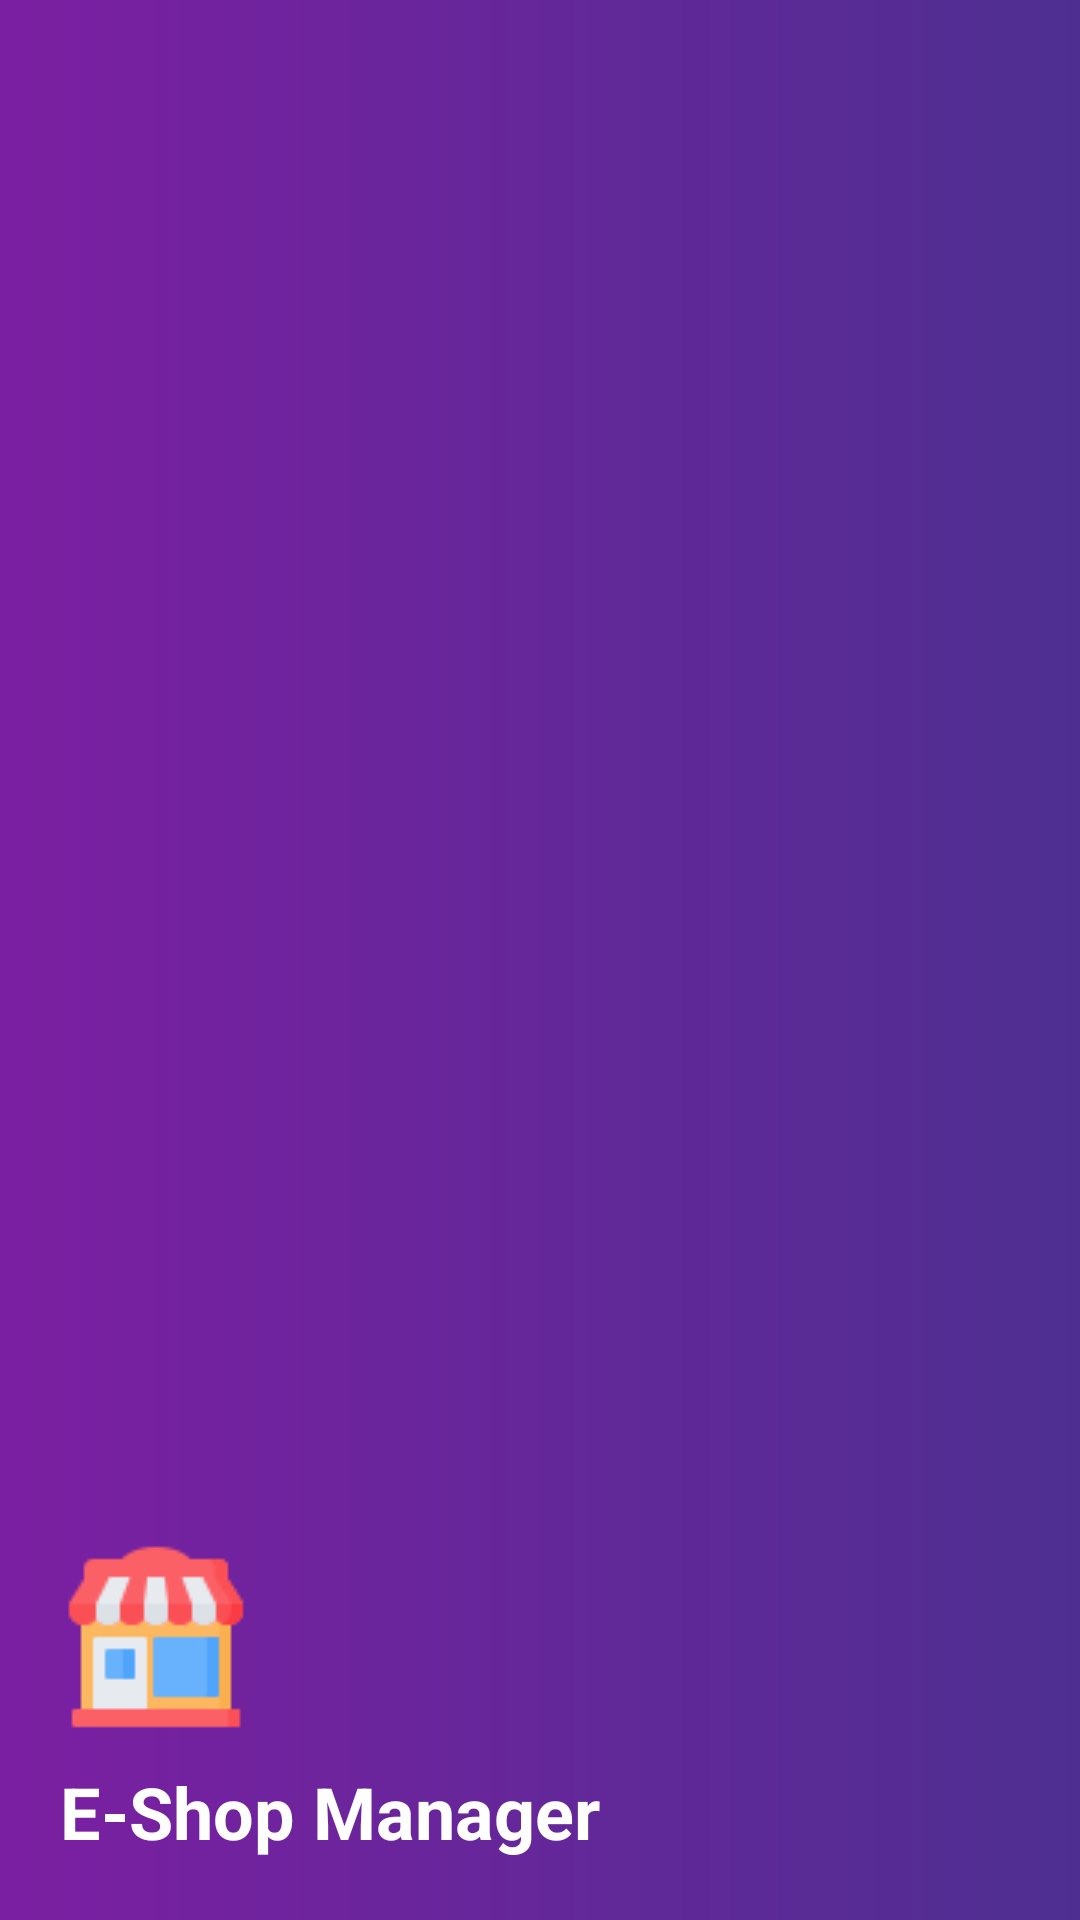

Point at icon controls on the screen. Image size 1080px×1920px, points as [x,y].
store: [156,1637]
